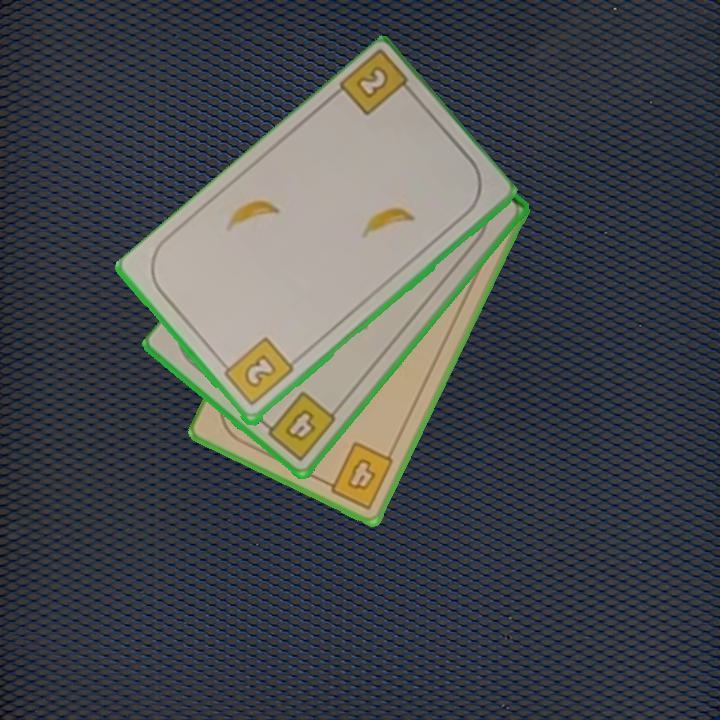2b: (216, 334, 297, 409), (335, 49, 420, 120)
4b: (258, 387, 339, 464), (318, 438, 397, 513)
